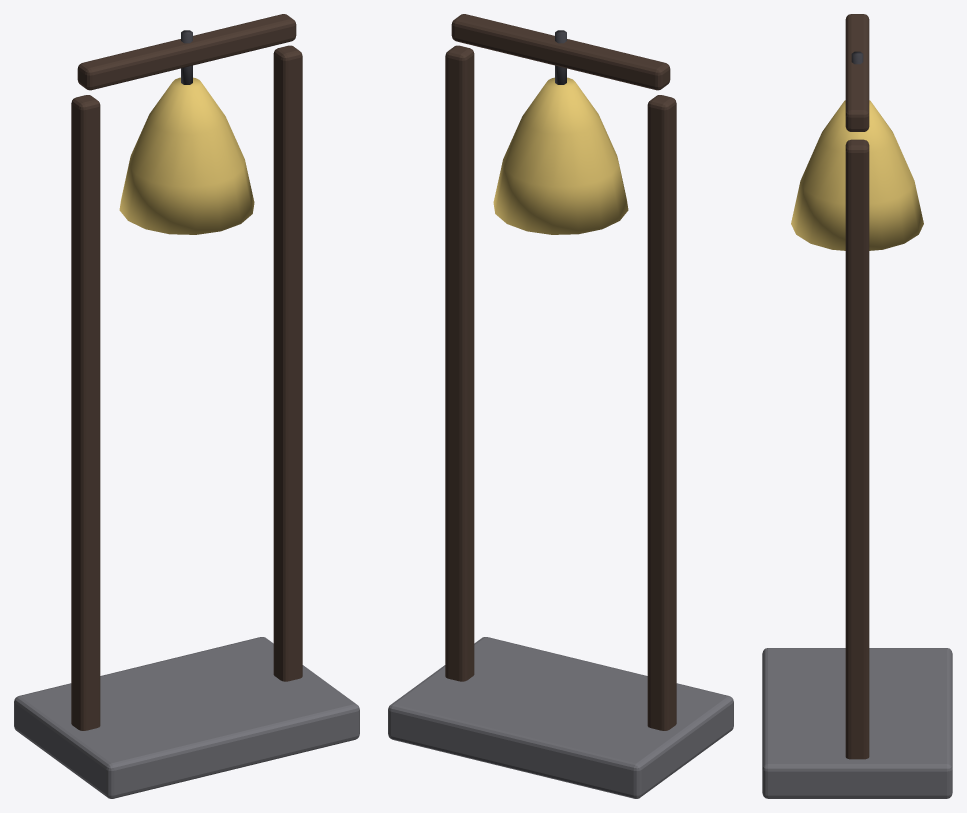
File: academy_misc_dormitory_bell.glb
3 views of the same model, side by side, from view 1: azimuth 30°, elevation 25°; view 2: azimuth 150°, elevation 25°; view 3: azimuth 270°, elevation 25° (orthographic). The views are drawn at different scales.
Visible parts, largest first — view 1: GD_academy_misc_dormitory_bell__m0, GD_academy_misc_dormitory_bell__m3, GD_academy_misc_dormitory_bell__m1; view 2: GD_academy_misc_dormitory_bell__m0, GD_academy_misc_dormitory_bell__m3, GD_academy_misc_dormitory_bell__m1; view 3: GD_academy_misc_dormitory_bell__m3, GD_academy_misc_dormitory_bell__m0, GD_academy_misc_dormitory_bell__m1.
Boxes of the visible parts, box(x1,y1,x2,y2) form: GD_academy_misc_dormitory_bell__m0: box(71, 14, 302, 730); GD_academy_misc_dormitory_bell__m3: box(14, 637, 359, 798); GD_academy_misc_dormitory_bell__m1: box(119, 77, 254, 234); GD_academy_misc_dormitory_bell__m0: box(445, 14, 676, 730); GD_academy_misc_dormitory_bell__m3: box(388, 637, 733, 798); GD_academy_misc_dormitory_bell__m1: box(493, 77, 628, 234); GD_academy_misc_dormitory_bell__m3: box(762, 648, 952, 798); GD_academy_misc_dormitory_bell__m0: box(845, 14, 869, 759); GD_academy_misc_dormitory_bell__m1: box(791, 100, 923, 250).
Size of the model in its own units: 0.6 by 1.59 by 0.4.
